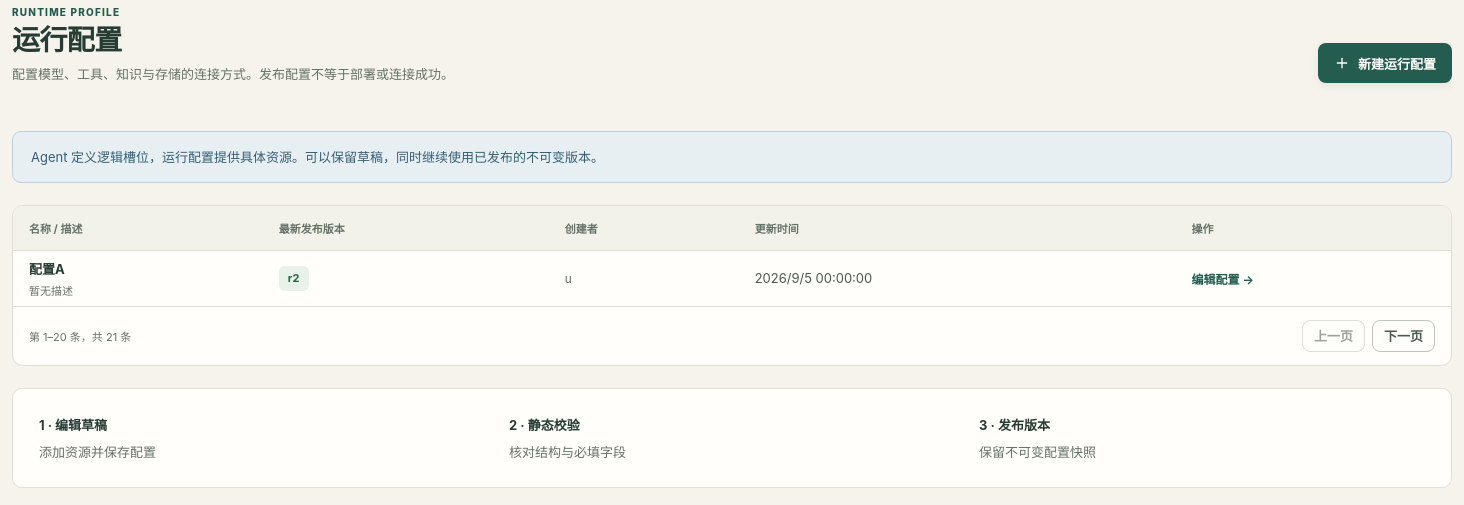
Runtime Profile list › uses offset pagination and metadata without unsupported counts or searches
The image size is (1464, 505).
Expected: the text "配置A" is shown, x1=29 y1=261 x2=65 y2=277
Click the button "下一页". click: point(1404, 336)
box: x1=1372 y1=320 x2=1435 y2=352
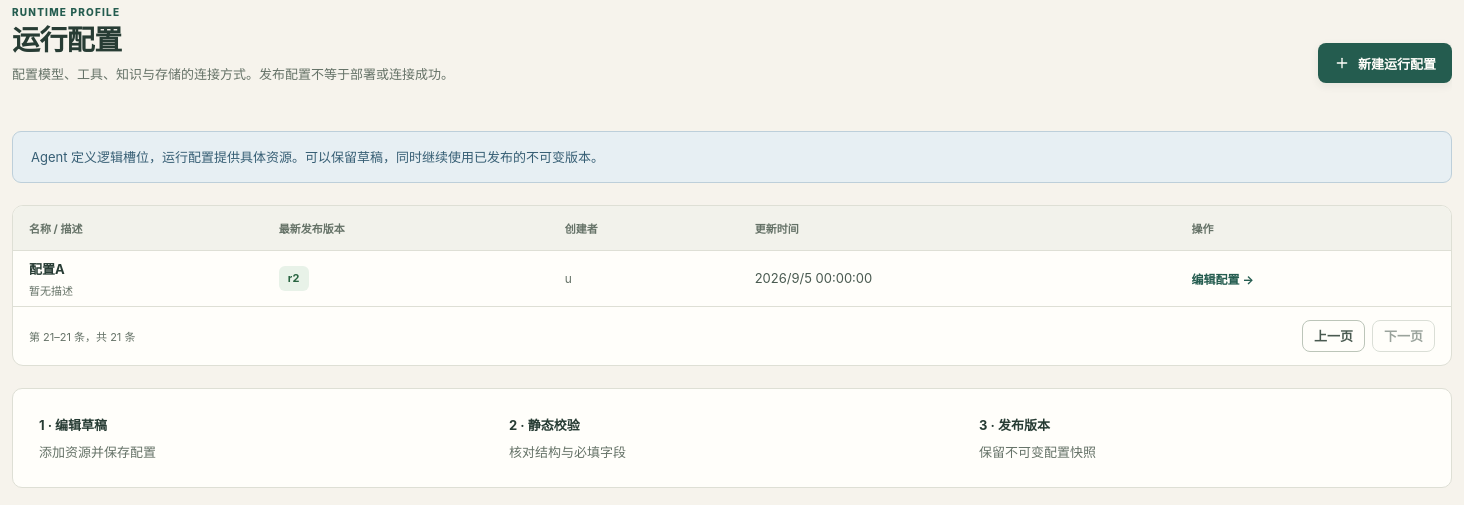
Expected: the text "第 21–21 条，共 21 条" is shown, x1=29 y1=328 x2=135 y2=344
Expected: the button "下一页" is disabled, x1=1372 y1=320 x2=1435 y2=352
